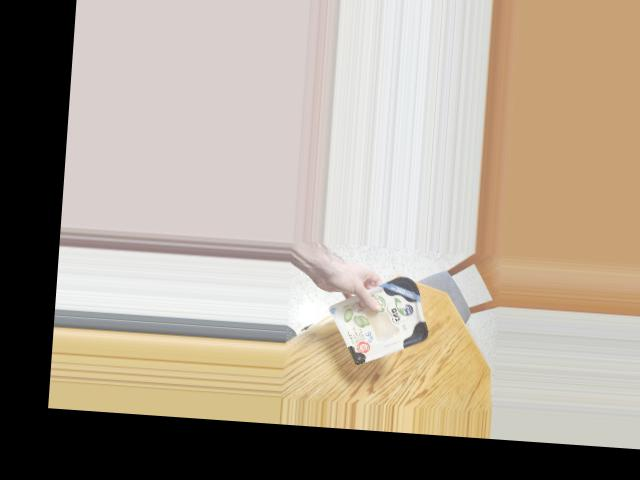cheese: (336, 267, 432, 364)
